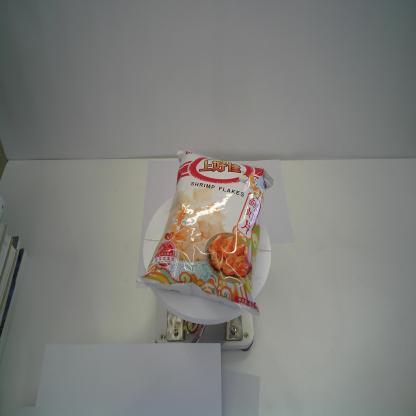Puffed Food: (136, 149, 275, 318)
